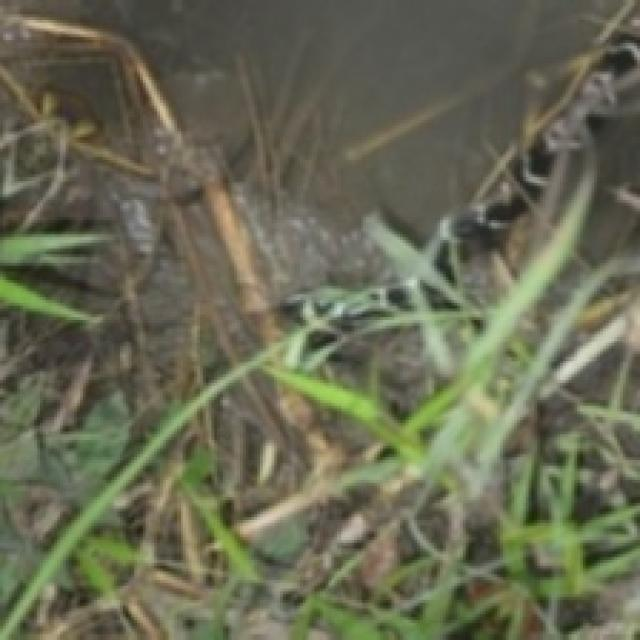mangrove cat snake: (363, 0, 637, 309)
